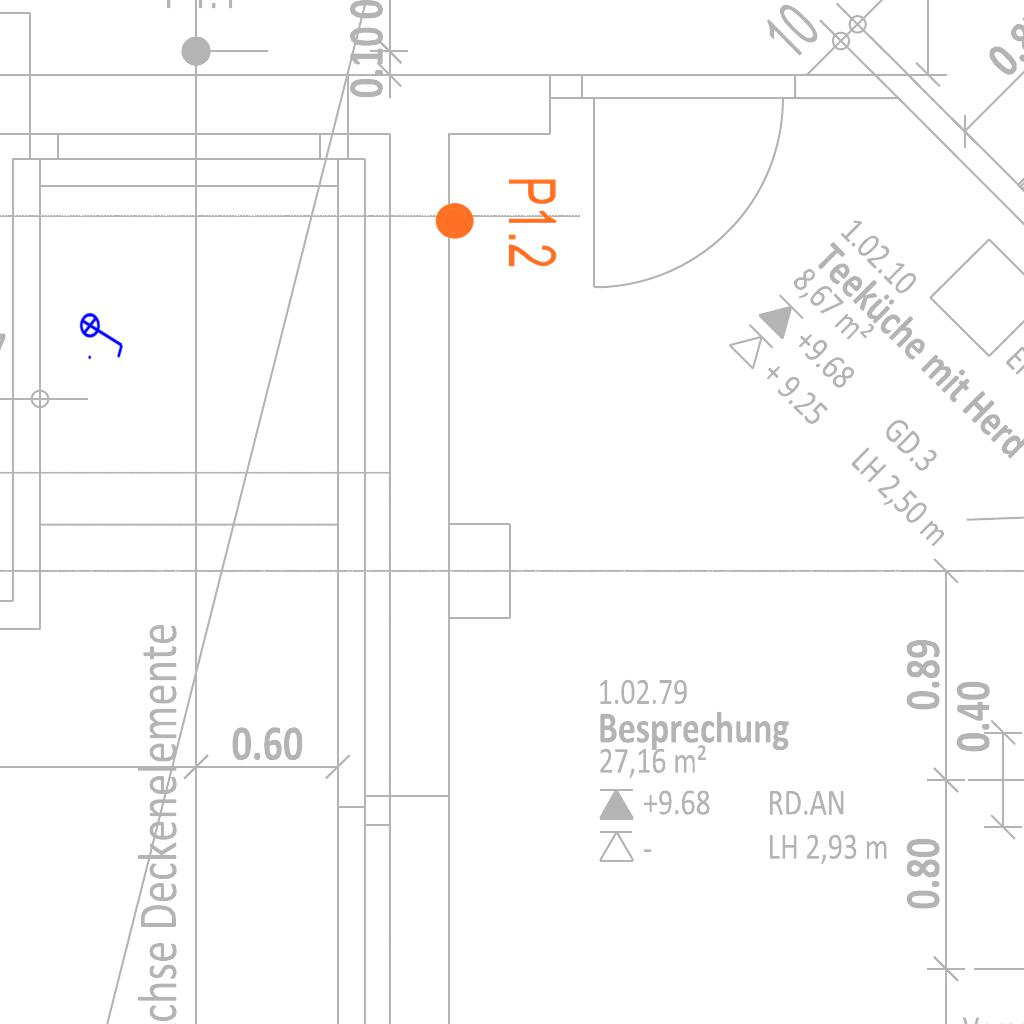Ausschalter_beleuchtet: (79, 306, 127, 362)
Downlight_LED_Einbauleuchten_Flur: (432, 176, 560, 269)
